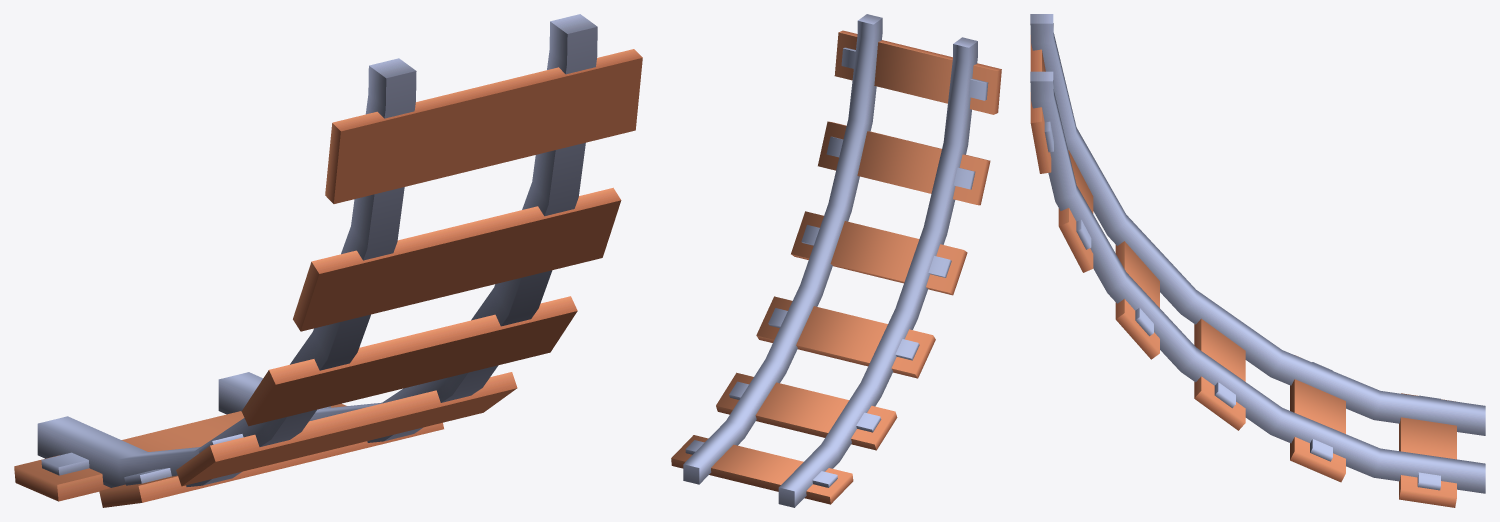
File: kenney-train-railroad-straight-bend.glb
3 views of the same model, side by side, from view 1: azimuth 30°, elevation 25°; view 2: azimuth 150°, elevation 25°; view 3: azimuth 270°, elevation 25° (orthographic). The views are drawn at different scales.
Visible parts, largest first — view 1: railroad-straight-bend; view 2: railroad-straight-bend; view 3: railroad-straight-bend.
Part boxes in pixels (x1,y1,x2,y2): railroad-straight-bend: [14, 14, 642, 507]; railroad-straight-bend: [671, 14, 1001, 507]; railroad-straight-bend: [1030, 14, 1485, 507].
Size of the model in its own units: 1 by 2 by 2.
Materials: 1 (1 with a texture image).
